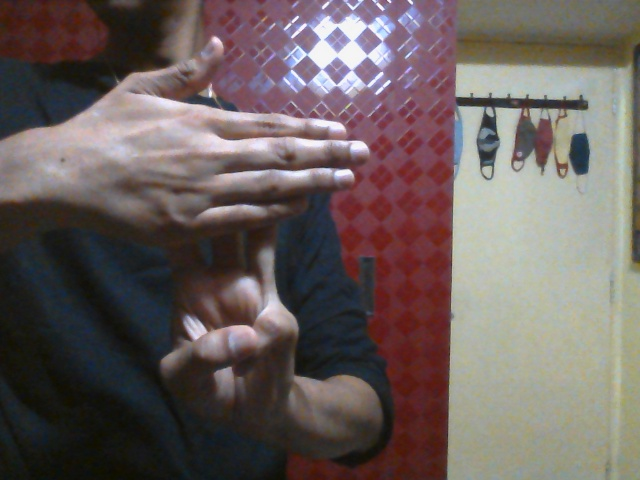M: (103, 32, 371, 420)
